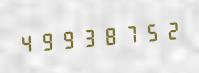eight: (97, 20, 116, 51)
five: (137, 16, 156, 47)
four: (17, 27, 36, 58)
nine: (37, 25, 56, 56), (57, 23, 76, 54)
seven: (117, 18, 136, 49)
three: (77, 21, 96, 53)
two: (157, 15, 176, 46)
